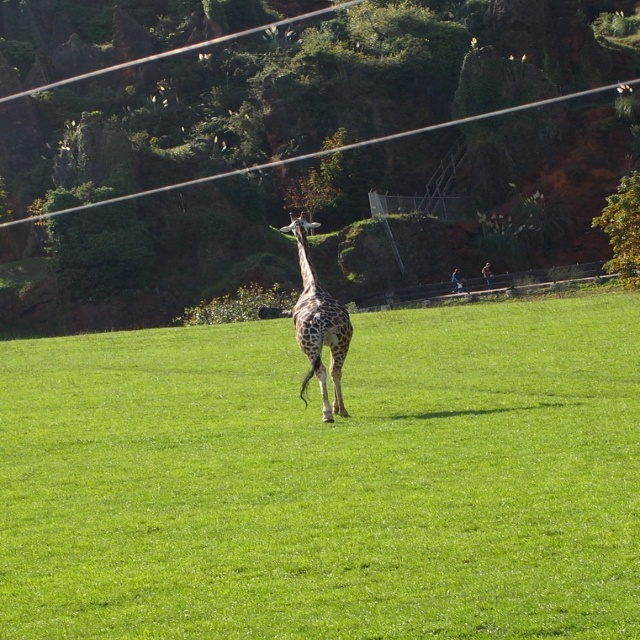Giraffe: (282, 211, 351, 424)
